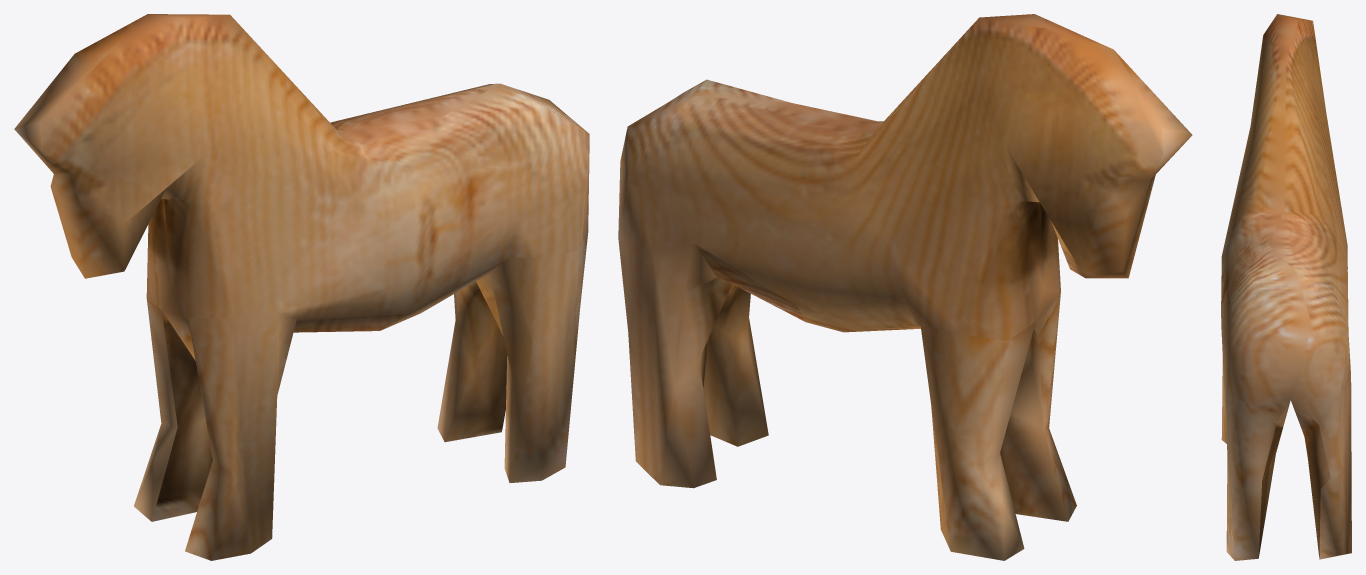
File: Q_Horse.fbx
The picture shows the model from 3 angles, left to right: view 1: azimuth 30°, elevation 25°; view 2: azimuth 150°, elevation 25°; view 3: azimuth 270°, elevation 25°; orthographic projection. The views are drawn at different scales.
Visible parts, largest first — view 1: Aset_wood_decorative_S_uhcjdhpva_LOD5; view 2: Aset_wood_decorative_S_uhcjdhpva_LOD5; view 3: Aset_wood_decorative_S_uhcjdhpva_LOD5.
Boxes of the visible parts, bbox=[...] form: Aset_wood_decorative_S_uhcjdhpva_LOD5: bbox=[14, 14, 589, 560]; Aset_wood_decorative_S_uhcjdhpva_LOD5: bbox=[618, 14, 1192, 560]; Aset_wood_decorative_S_uhcjdhpva_LOD5: bbox=[1221, 14, 1351, 560].
Size of the model in its own units: 5.68 by 5.12 by 1.52.
